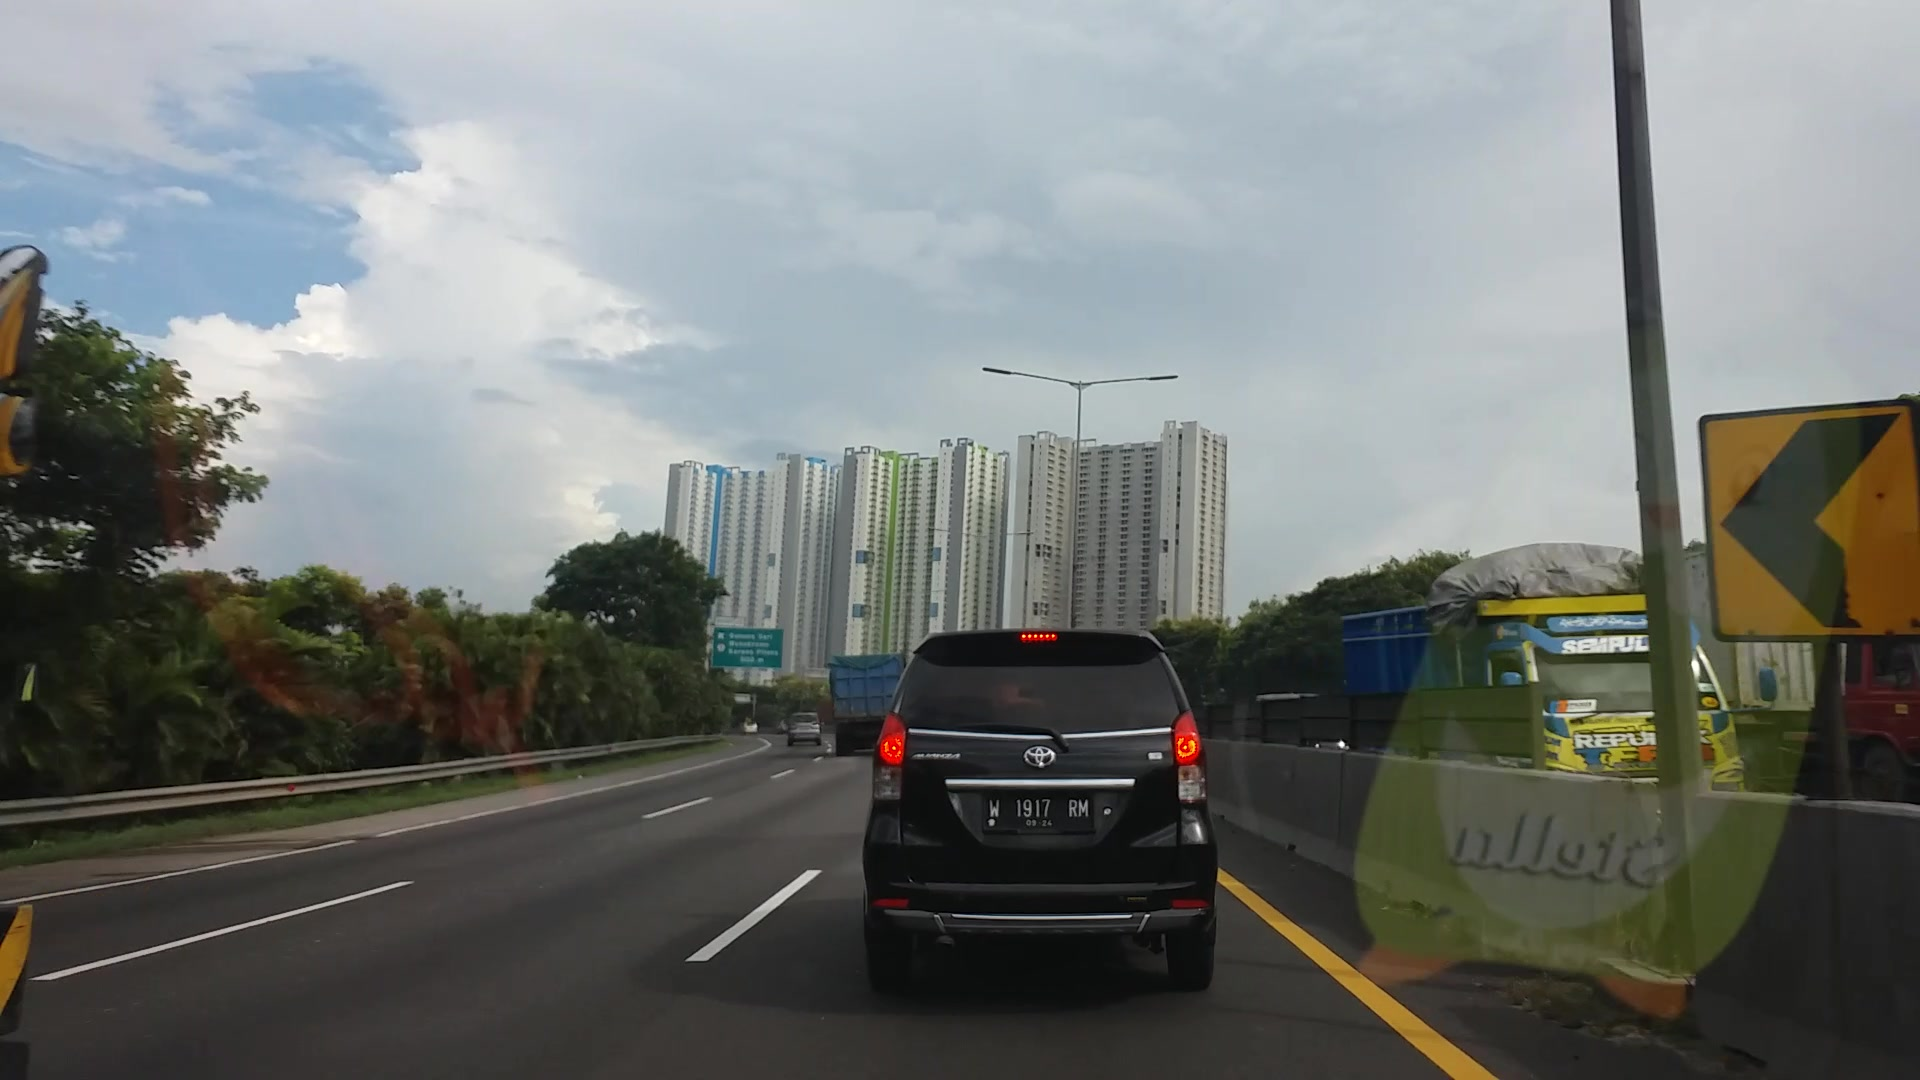plate_positive: (982, 791, 1093, 832)
